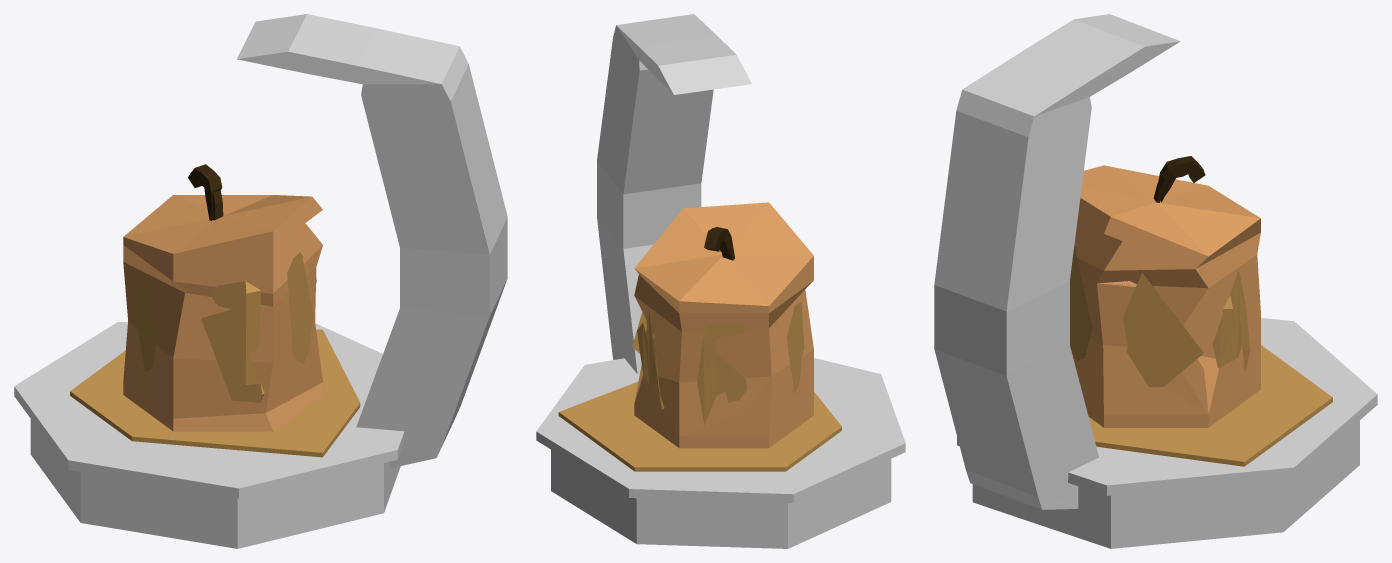
Rendered from RemadeCandleMelted(B)rename.fbx.
3 renders of one model, left to right at view 1: azimuth 30°, elevation 25°; view 2: azimuth 150°, elevation 25°; view 3: azimuth 270°, elevation 25°, orthographic. The views are drawn at different scales.
Visible parts, largest first — view 1: Handle(B, Dish(B, Candle Remade(B, Melted wax Base(B, Melted wax(B, Wick(B; view 2: Dish(B, Candle Remade(B, Handle(B, Melted wax Base(B, Melted wax(B, Wick(B; view 3: Handle(B, Candle Remade(B, Dish(B, Melted wax Base(B, Melted wax(B, Wick(B.
Boxes of the visible parts, box(x1,y1,x2,y2) form: Handle(B: box(237, 14, 507, 468); Dish(B: box(14, 322, 404, 548); Candle Remade(B: box(123, 195, 322, 431); Melted wax Base(B: box(70, 329, 360, 457); Melted wax(B: box(131, 252, 316, 402); Wick(B: box(188, 164, 223, 220); Dish(B: box(536, 358, 905, 548); Candle Remade(B: box(634, 202, 813, 448); Handle(B: box(597, 14, 751, 374); Melted wax Base(B: box(558, 381, 841, 471); Melted wax(B: box(632, 302, 804, 424); Wick(B: box(704, 227, 734, 260); Handle(B: box(934, 14, 1180, 509); Candle Remade(B: box(1070, 165, 1260, 427); Dish(B: box(957, 318, 1377, 548); Melted wax Base(B: box(1088, 345, 1332, 466); Melted wax(B: box(1070, 245, 1250, 387); Wick(B: box(1153, 156, 1205, 202).
Bounding box in the file's own units: 232 × 248 × 218.
